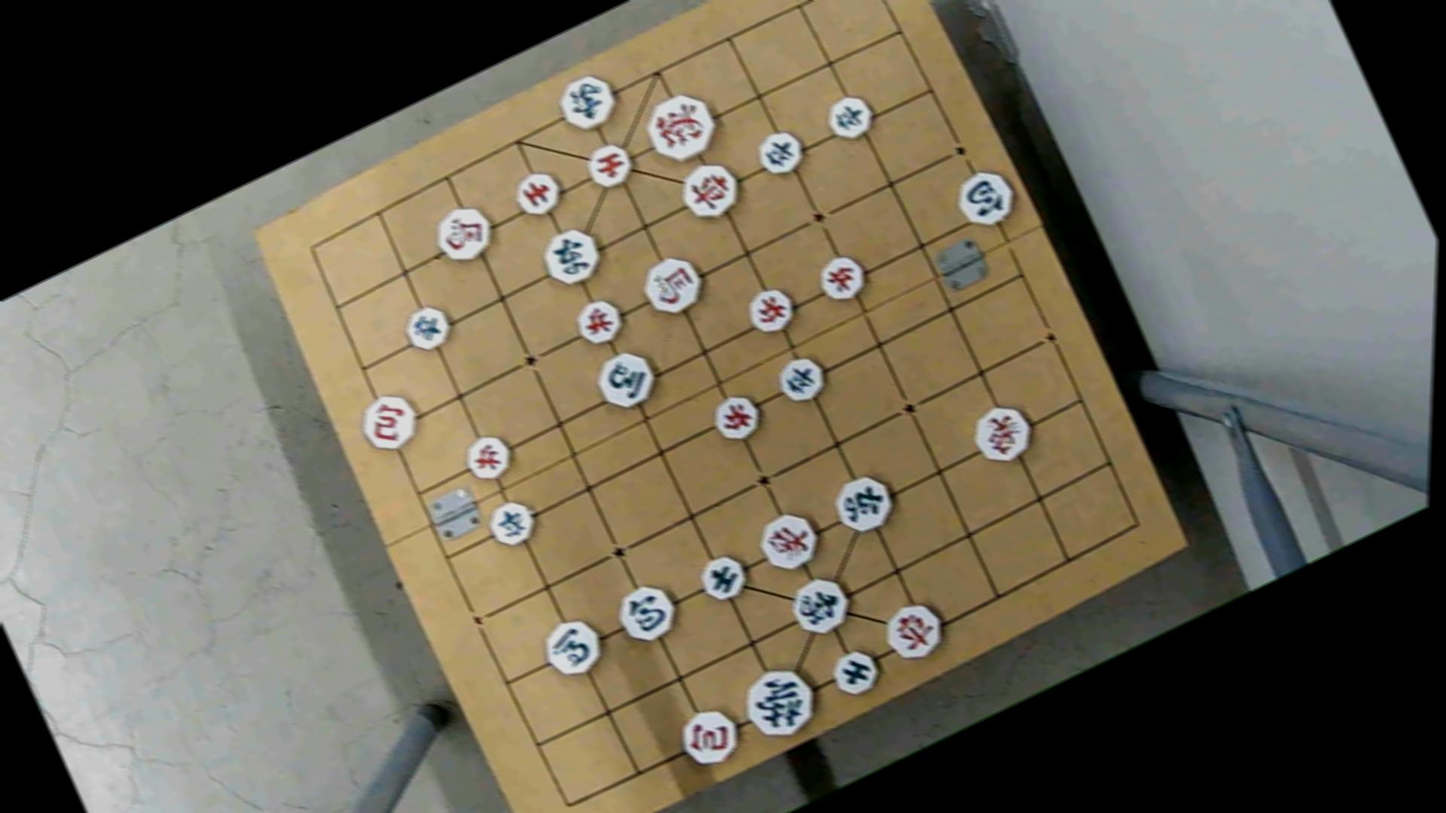cha_green: (535, 221, 612, 291), (826, 469, 901, 537)
cha_red: (670, 155, 749, 224), (877, 595, 954, 665)
jol_green: (746, 122, 813, 181), (770, 349, 835, 409), (480, 498, 543, 553), (398, 301, 459, 356), (822, 92, 882, 145)
jol_red: (739, 282, 802, 341), (706, 391, 769, 447), (457, 431, 519, 486), (569, 295, 630, 350), (813, 253, 874, 307)
ma_green: (587, 340, 664, 413), (533, 612, 609, 681)
ma_red: (636, 251, 712, 320), (426, 199, 500, 266)
po_green: (947, 166, 1025, 236), (609, 580, 683, 648)
po_red: (672, 702, 750, 772), (351, 388, 427, 457)
sa_green: (822, 643, 887, 700), (691, 549, 755, 606)
sa_red: (579, 139, 642, 193), (509, 166, 569, 222)
sang_green: (548, 66, 624, 139), (782, 571, 858, 641)
sang_red: (752, 507, 828, 578), (966, 400, 1042, 470)
wang_green: (728, 653, 830, 748)
wang_red: (636, 84, 730, 172)
